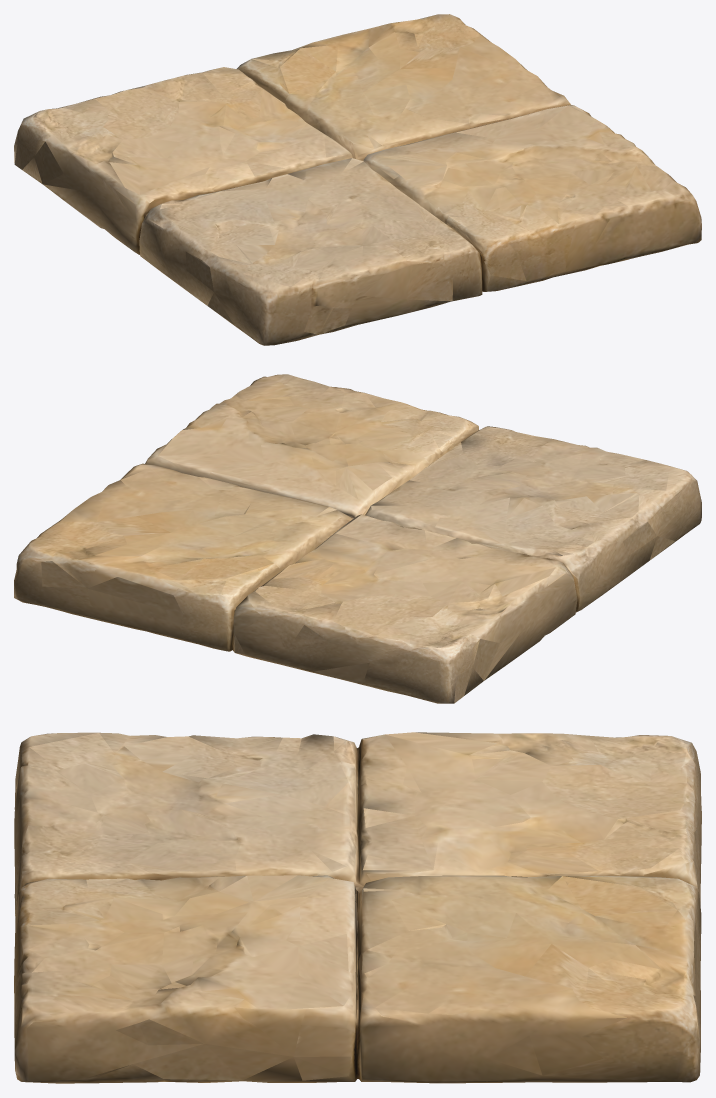
The model's file is paving.glb.
The picture shows the model from 3 angles, top to bottom: view 1: azimuth 30°, elevation 25°; view 2: azimuth 150°, elevation 25°; view 3: azimuth 270°, elevation 25°; orthographic projection. The views are drawn at different scales.
Visible parts, largest first — view 1: tripo_node_5d393e46; view 2: tripo_node_5d393e46; view 3: tripo_node_5d393e46.
Part boxes in pixels (left/top/right/bottom): tripo_node_5d393e46: left=14, top=14, right=701, bottom=345; tripo_node_5d393e46: left=14, top=374, right=701, bottom=703; tripo_node_5d393e46: left=14, top=732, right=701, bottom=1083.
Bounding box in the file's own units: 0.9882 × 0.1203 × 0.9888.
1 material, 1 textured.
